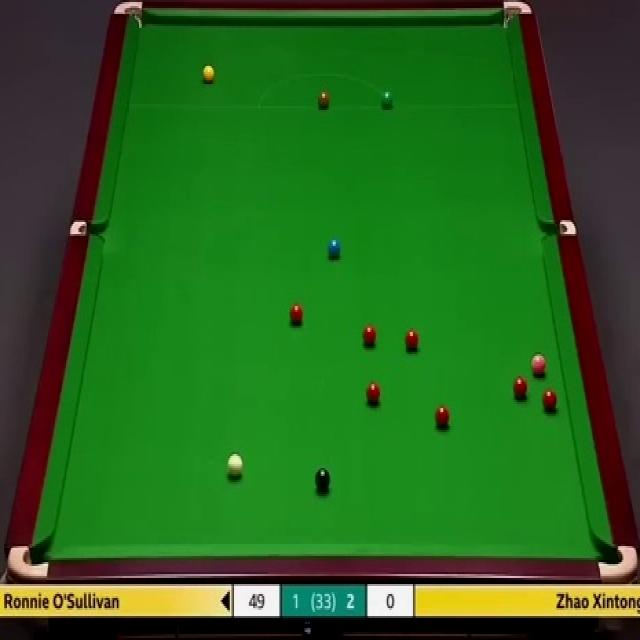black-ball: (316, 466, 331, 490)
blue-ball: (328, 236, 341, 262)
brown-ball: (317, 91, 331, 109)
green-ball: (380, 88, 395, 110)
pink-ball: (530, 353, 547, 377)
red-ball: (360, 325, 378, 348), (512, 375, 527, 401), (365, 382, 380, 406), (434, 406, 450, 428), (406, 328, 420, 352), (544, 389, 558, 413), (289, 303, 303, 324)
white-ball: (227, 453, 242, 479)
yellow-ball: (203, 66, 215, 85)
